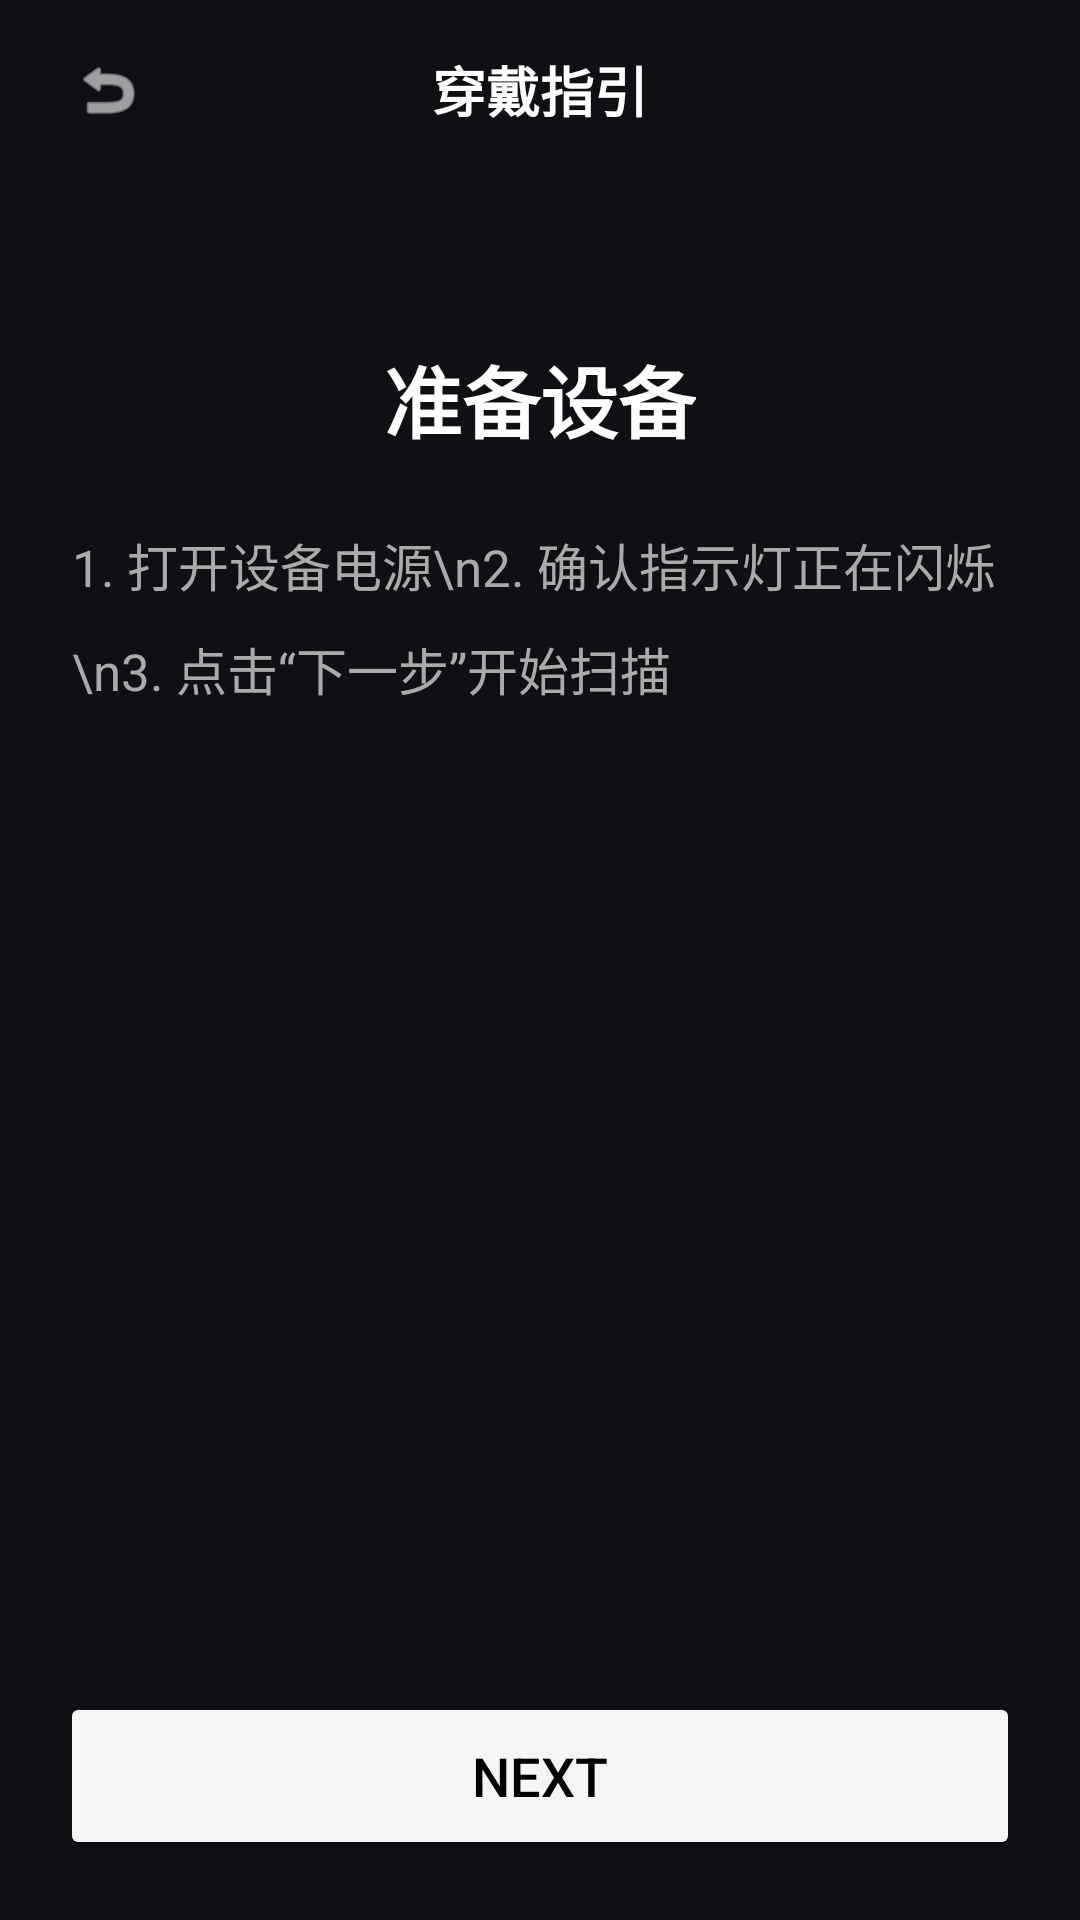

Icons on this 1080*1920 Android screen, each with the point to tap as point (x, y):
revert: point (109, 90)
